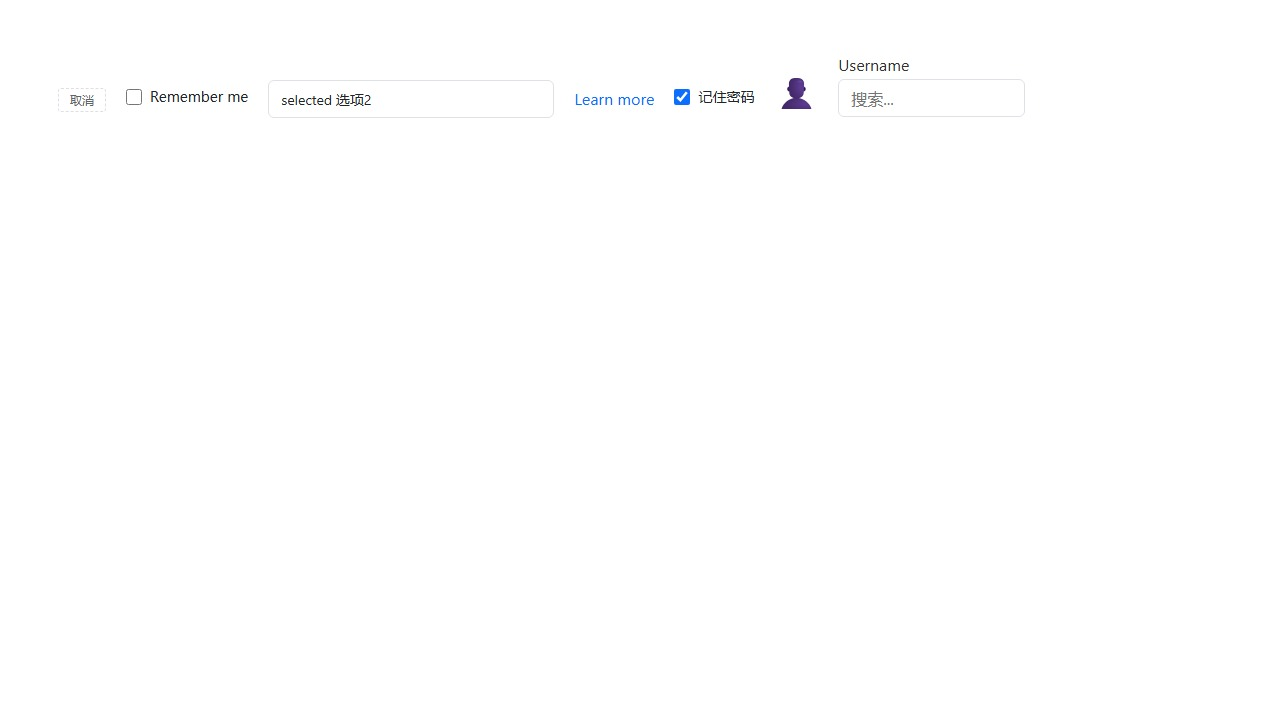button: (58, 87, 106, 111)
checkbox: (126, 89, 142, 105), (674, 89, 690, 105)
icon: (150, 87, 248, 106), (774, 75, 818, 107), (698, 87, 754, 106)
input: (838, 79, 1025, 117)
link: (574, 87, 654, 109)
radio: (126, 87, 248, 106), (674, 87, 754, 106)
select: (268, 80, 554, 118)
